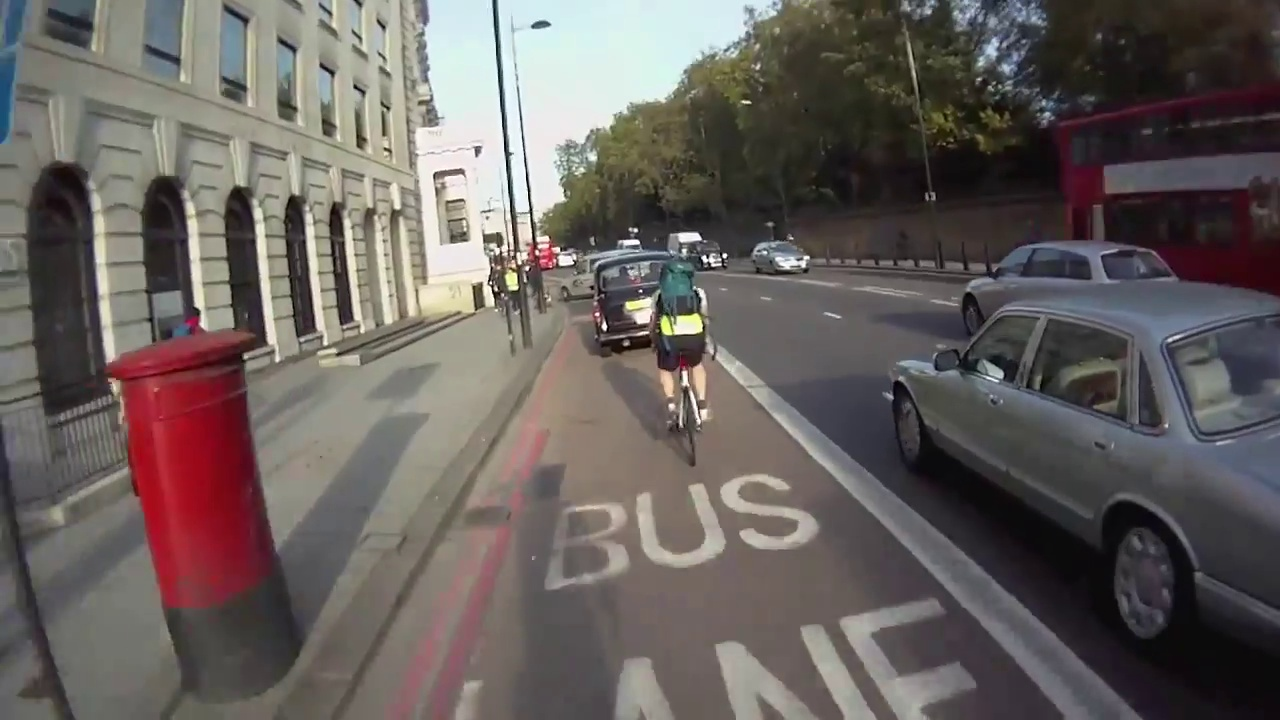cyclist_back: (643, 252, 728, 473)
